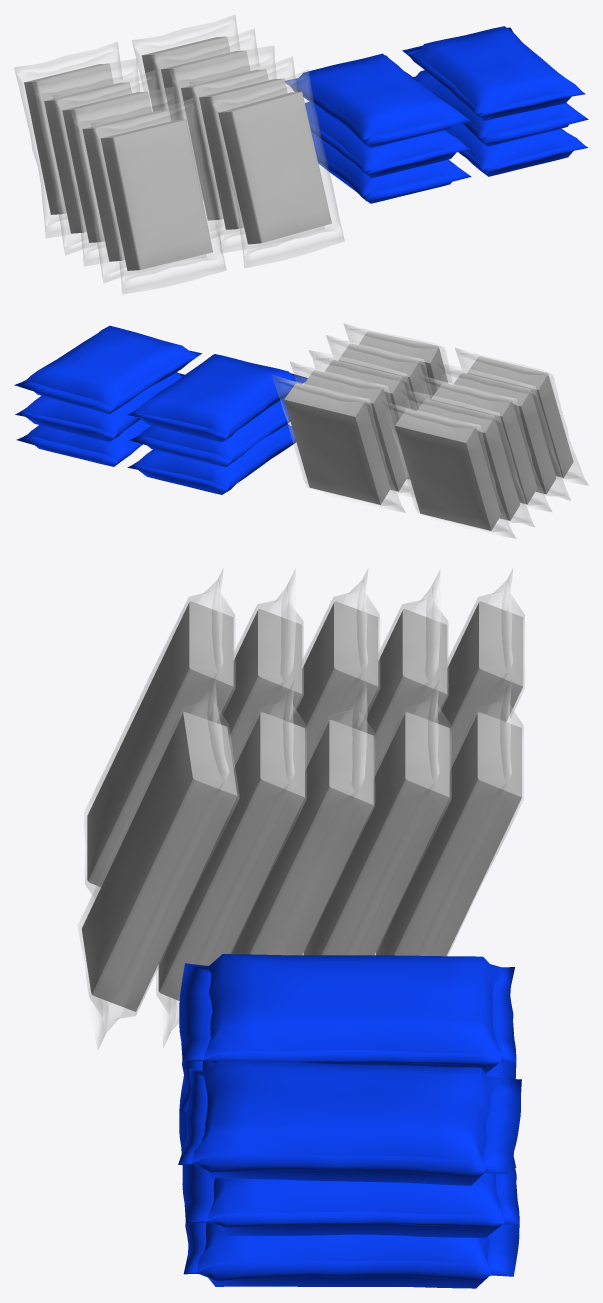
File: Cheese_bn26cq_Pack01.fbx
The picture shows the model from 3 angles, top to bottom: view 1: azimuth 30°, elevation 25°; view 2: azimuth 150°, elevation 25°; view 3: azimuth 270°, elevation 25°; orthographic projection. The views are drawn at different scales.
Visible parts, largest first — view 1: Cheese_bn26cq_Pack01; view 2: Cheese_bn26cq_Pack01; view 3: Cheese_bn26cq_Pack01.
Part boxes in pixels (<box>): Cheese_bn26cq_Pack01: <box>14,14,588,294</box>; Cheese_bn26cq_Pack01: <box>14,323,588,538</box>; Cheese_bn26cq_Pack01: <box>78,568,524,1288</box>.
Bounding box in the file's own units: 60.19 × 17.31 × 24.76.
